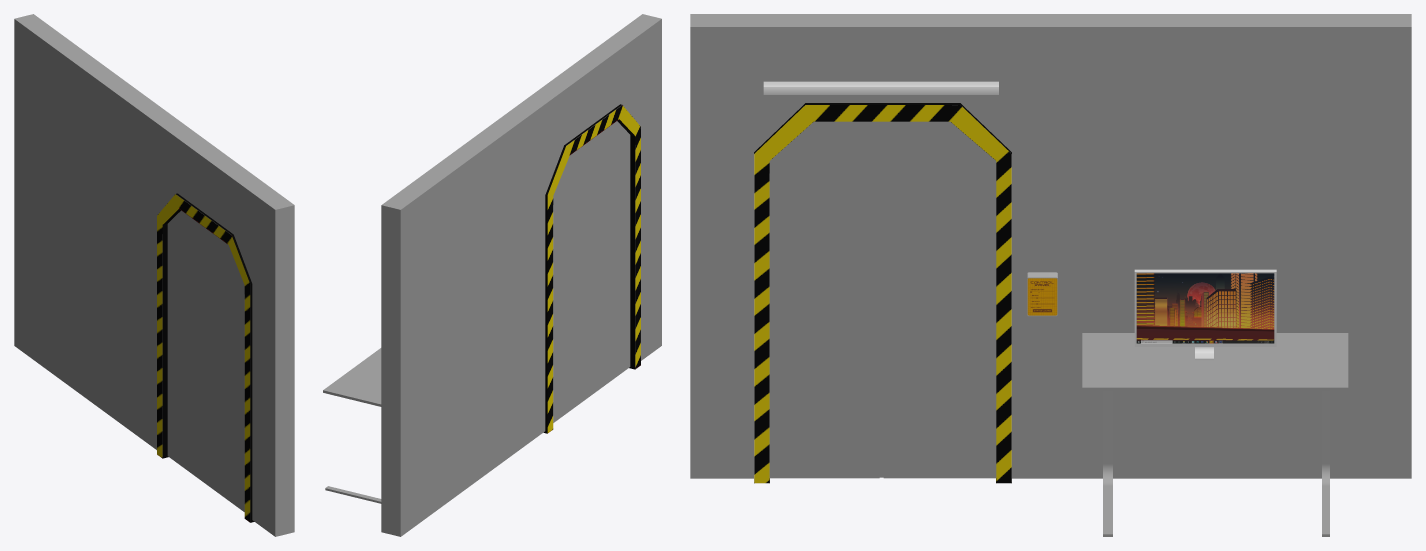
Rendered from room143_2.fbx.
3 views of the same model, side by side, from view 1: azimuth 30°, elevation 25°; view 2: azimuth 150°, elevation 25°; view 3: azimuth 270°, elevation 25° (orthographic). The views are drawn at different scales.
Parts seen in each view (by area): view 1: pCube53; view 2: pCube53; view 3: pCube53.
Boxes of the visible parts, x1,y1,x2,y2 form: pCube53: [14, 14, 294, 536]; pCube53: [323, 14, 661, 536]; pCube53: [690, 14, 1411, 536].
Bounding box in the file's own units: 8.98 × 26.37 × 37.91.
Materials: 9 (3 with a texture image).
